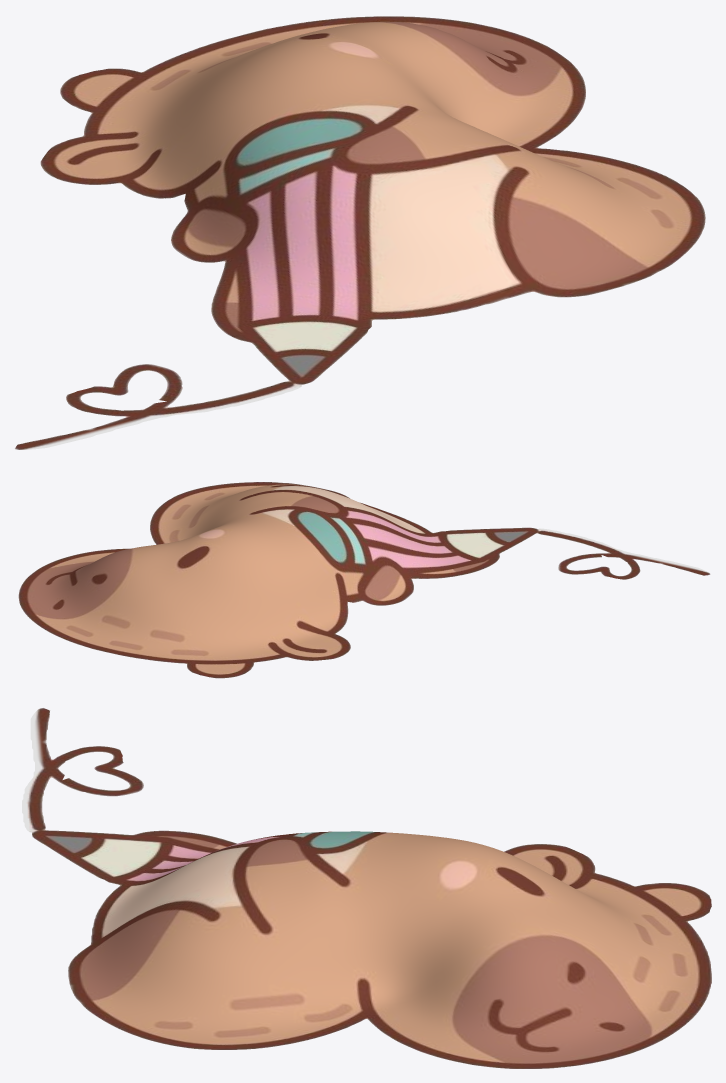
The picture shows the model from 3 angles, top to bottom: view 1: azimuth 30°, elevation 25°; view 2: azimuth 150°, elevation 25°; view 3: azimuth 270°, elevation 25°; orthographic projection. The views are drawn at different scales.
Parts seen in each view (by area): view 1: 平面.001; view 2: 平面.001; view 3: 平面.001.
Boxes of the visible parts, bbox=[...] form: 平面.001: bbox=[15, 16, 705, 449]; 平面.001: bbox=[18, 482, 710, 678]; 平面.001: bbox=[22, 708, 711, 1068].
Size of the model in its own units: 136 by 15.9 by 111.
